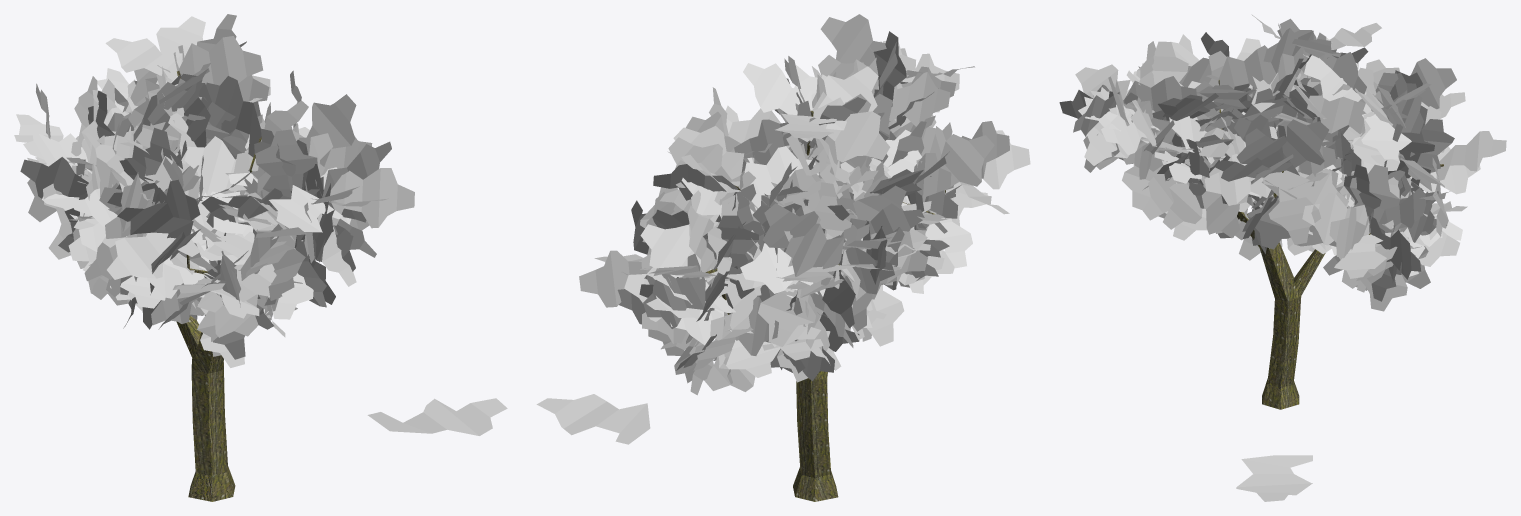
Rendered from Tree.fbx.
3 views of the same model, side by side, from view 1: azimuth 30°, elevation 25°; view 2: azimuth 150°, elevation 25°; view 3: azimuth 270°, elevation 25° (orthographic). The views are drawn at different scales.
Parts seen in each view (by area): view 1: Cube, Cube|Tree Branch|Dupli|108, Tree Branch, Cube|Tree Branch|Dupli|297, Cube|Tree Branch|Dupli|327, Cube|Tree Branch|Dupli|78, Cube|Tree Branch|Dupli|269, Cube|Tree Branch|Dupli|268, Cube|Tree Branch|Dupli|303, Cube|Tree Branch|Dupli|140, Cube|Tree Branch|Dupli|102, Cube|Tree Branch|Dupli|330 (+49 smaller); view 2: Cube, Tree Branch, Cube|Tree Branch|Dupli|276, Cube|Tree Branch|Dupli|377, Cube|Tree Branch|Dupli|110, Cube|Tree Branch|Dupli|275, Cube|Tree Branch|Dupli|417, Cube|Tree Branch|Dupli|357, Cube|Tree Branch|Dupli|477, Cube|Tree Branch|Dupli|109, Cube|Tree Branch|Dupli|424, Cube|Tree Branch|Dupli|360 (+50 smaller); view 3: Cube, Tree Branch, Cube|Tree Branch|Dupli|138, Cube|Tree Branch|Dupli|137, Cube|Tree Branch|Dupli|491, Cube|Tree Branch|Dupli|365, Cube|Tree Branch|Dupli|269, Cube|Tree Branch|Dupli|480, Cube|Tree Branch|Dupli|139, Cube|Tree Branch|Dupli|474, Cube|Tree Branch|Dupli|146, Cube|Tree Branch|Dupli|473 (+50 smaller).
Part boxes in pixels (x1,y1,x2,y2): Cube: (176,71,261,501); Cube|Tree Branch|Dupli|108: (328,168,414,228); Tree Branch: (367,398,507,435); Cube|Tree Branch|Dupli|297: (178,36,263,85); Cube|Tree Branch|Dupli|327: (107,232,200,279); Cube|Tree Branch|Dupli|78: (255,129,317,197); Cube|Tree Branch|Dupli|269: (203,76,261,157); Cube|Tree Branch|Dupli|268: (184,136,236,196); Cube|Tree Branch|Dupli|303: (105,38,182,84); Cube|Tree Branch|Dupli|140: (306,94,356,166); Cube|Tree Branch|Dupli|102: (269,185,343,232); Cube|Tree Branch|Dupli|330: (117,203,193,238); Cube: (705,110,945,501); Tree Branch: (536,394,650,444); Cube|Tree Branch|Dupli|276: (800,97,890,162); Cube|Tree Branch|Dupli|377: (643,253,705,328); Cube|Tree Branch|Dupli|110: (820,14,886,66); Cube|Tree Branch|Dupli|275: (743,63,812,114); Cube|Tree Branch|Dupli|417: (785,223,844,285); Cube|Tree Branch|Dupli|357: (920,134,994,194); Cube|Tree Branch|Dupli|477: (579,247,651,307); Cube|Tree Branch|Dupli|109: (889,72,950,126); Cube|Tree Branch|Dupli|424: (758,288,815,346); Cube|Tree Branch|Dupli|360: (640,224,706,279); Cube: (1218,80,1443,409); Tree Branch: (1236,455,1312,501); Cube|Tree Branch|Dupli|138: (1262,170,1321,244); Cube|Tree Branch|Dupli|137: (1282,119,1328,175); Cube|Tree Branch|Dupli|491: (1307,84,1382,134); Cube|Tree Branch|Dupli|365: (1436,131,1506,180); Cube|Tree Branch|Dupli|269: (1218,45,1278,89); Cube|Tree Branch|Dupli|480: (1302,192,1370,245); Cube|Tree Branch|Dupli|139: (1204,154,1270,205); Cube|Tree Branch|Dupli|474: (1334,232,1391,278); Cube|Tree Branch|Dupli|146: (1202,184,1240,238); Cube|Tree Branch|Dupli|473: (1350,164,1400,237).
Size of the model in its own units: 2292 by 2248 by 2392.
Materials: 2 (1 with a texture image).
